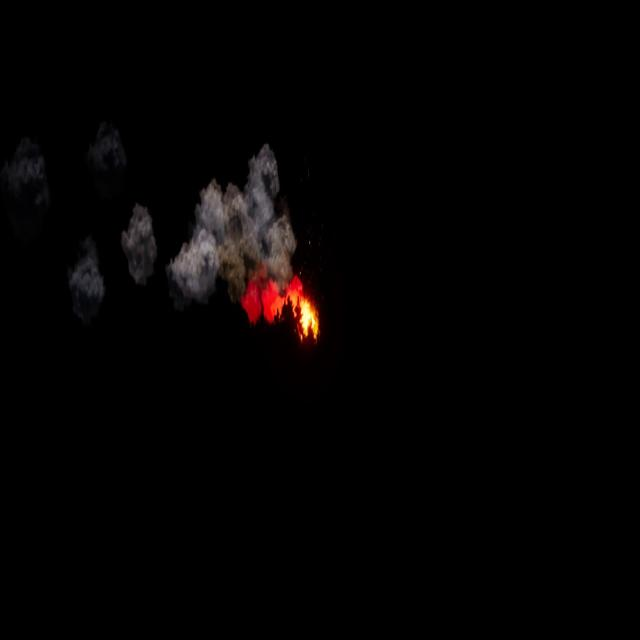fire: (241, 274, 322, 340)
smoke: (66, 140, 300, 306)
